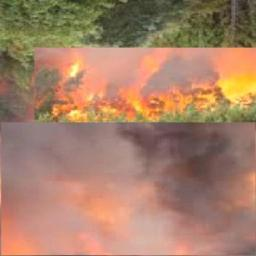Heavy smoke: (0, 111, 256, 256)
Small fire: (33, 45, 247, 112)
